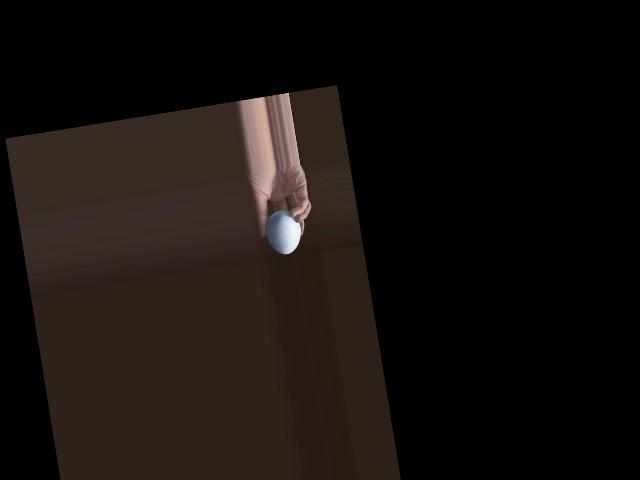egg: (263, 208, 305, 257)
